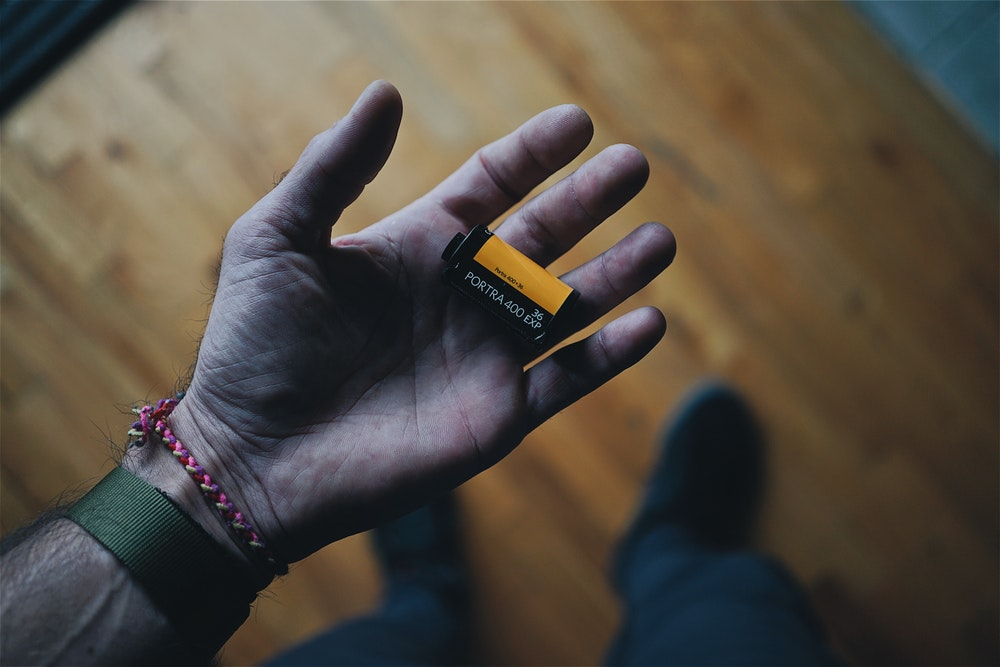palm: (264, 266, 517, 479)
